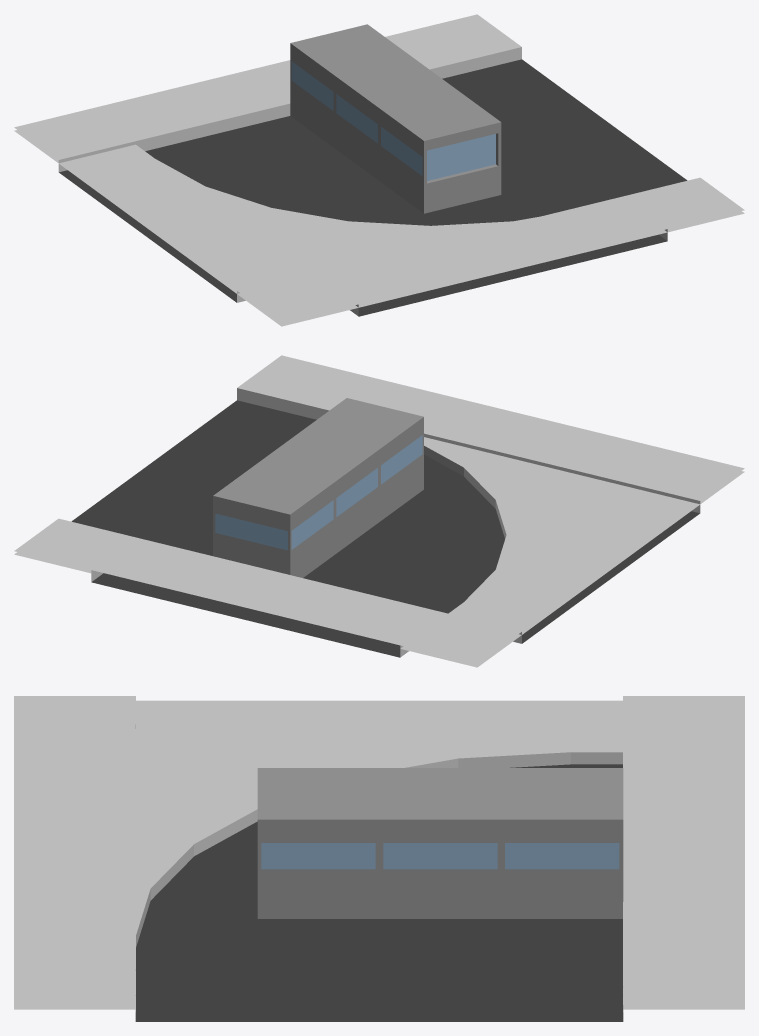
Rendered from bloques.fbx.
3 renders of one model, top to bottom at view 1: azimuth 30°, elevation 25°; view 2: azimuth 150°, elevation 25°; view 3: azimuth 270°, elevation 25°, orthographic. The views are drawn at different scales.
Parts seen in each view (by area): view 1: recto, cruce, bus, curva, bif; view 2: recto, curva, cruce, bus, bif; view 3: recto, bus, curva, cruce, bif.
Part boxes in pixels (x1,y1,x2,y2): recto: [14, 14, 744, 322]; cruce: [14, 15, 743, 322]; bus: [290, 24, 501, 213]; curva: [14, 50, 744, 326]; bif: [58, 15, 521, 189]; recto: [14, 355, 744, 664]; curva: [14, 391, 744, 667]; cruce: [15, 356, 743, 663]; bus: [213, 398, 423, 577]; bif: [15, 518, 559, 657]; recto: [14, 696, 744, 1021]; bus: [257, 768, 623, 918]; curva: [14, 700, 744, 1011]; cruce: [14, 696, 744, 1021]; bif: [501, 698, 744, 1021].
Bounding box in the file's own units: 2 × 0.3 × 2.
